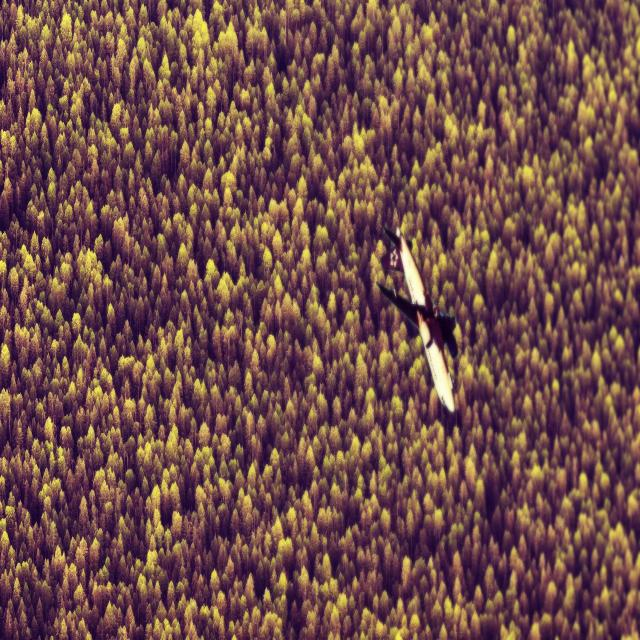airplane: (375, 224, 459, 414)
